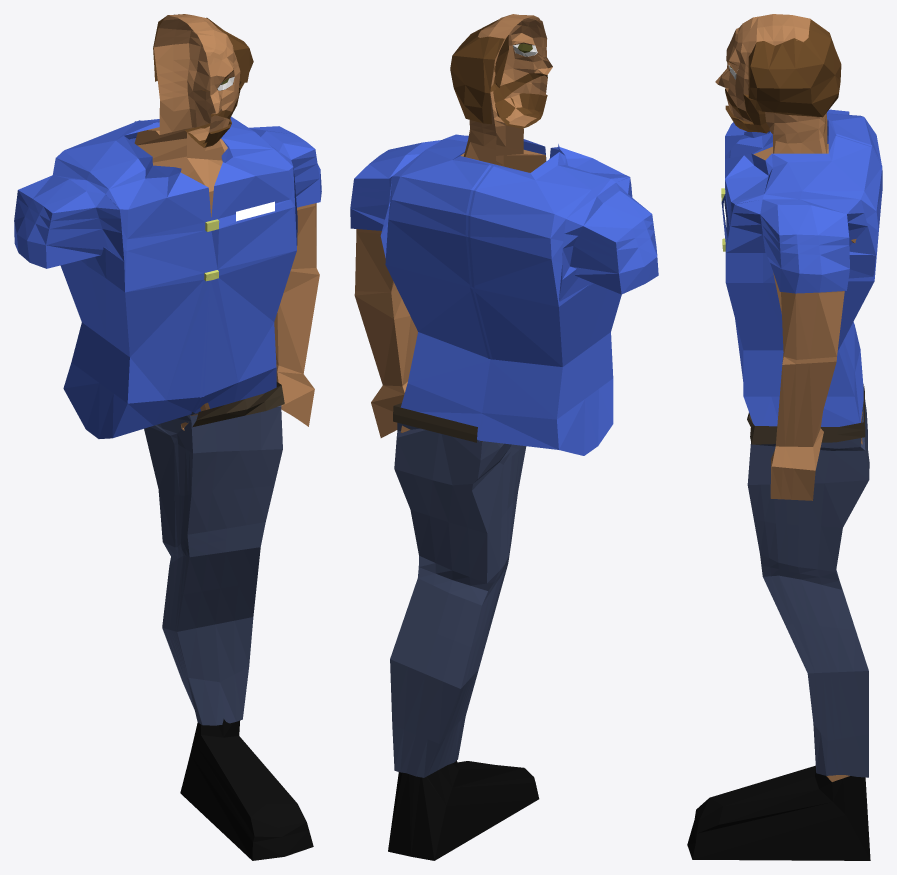
The model's file is janitor copy.dae.
The picture shows the model from 3 angles, left to right: view 1: azimuth 30°, elevation 25°; view 2: azimuth 150°, elevation 25°; view 3: azimuth 270°, elevation 25°; orthographic projection.
Parts seen in each view (by area): view 1: Cube.001, Cube.002, Cube, Cube.003, Cube.004, Cube.006; view 2: Cube.001, Cube.002, Cube, Cube.003, Cube.006, Cube.004, Cube.008; view 3: Cube.001, Cube.002, Cube, Cube.003, Cube.006, Cube.004, Cube.008.
Boxes of the visible parts, box(x1,y1,x2,y2) form: Cube.001: box(14, 116, 321, 438); Cube.002: box(144, 405, 282, 725); Cube: box(134, 14, 319, 430); Cube.003: box(180, 719, 313, 860); Cube.004: box(192, 382, 284, 427); Cube.006: box(153, 14, 253, 91); Cube.001: box(350, 134, 658, 455); Cube.002: box(390, 422, 526, 777); Cube: box(354, 14, 552, 441); Cube.003: box(388, 760, 539, 860); Cube.006: box(450, 19, 508, 124); Cube.004: box(393, 403, 477, 442); Cube.008: box(493, 66, 547, 128); Cube.001: box(721, 109, 882, 426); Cube.002: box(747, 400, 869, 777); Cube: box(715, 14, 862, 781); Cube.003: box(687, 765, 870, 860); Cube.006: box(748, 19, 841, 117); Cube.004: box(747, 384, 865, 444); Cube.008: box(725, 94, 769, 133).
Bounding box in the file's own units: 1.97 × 1.15 × 5.24.
